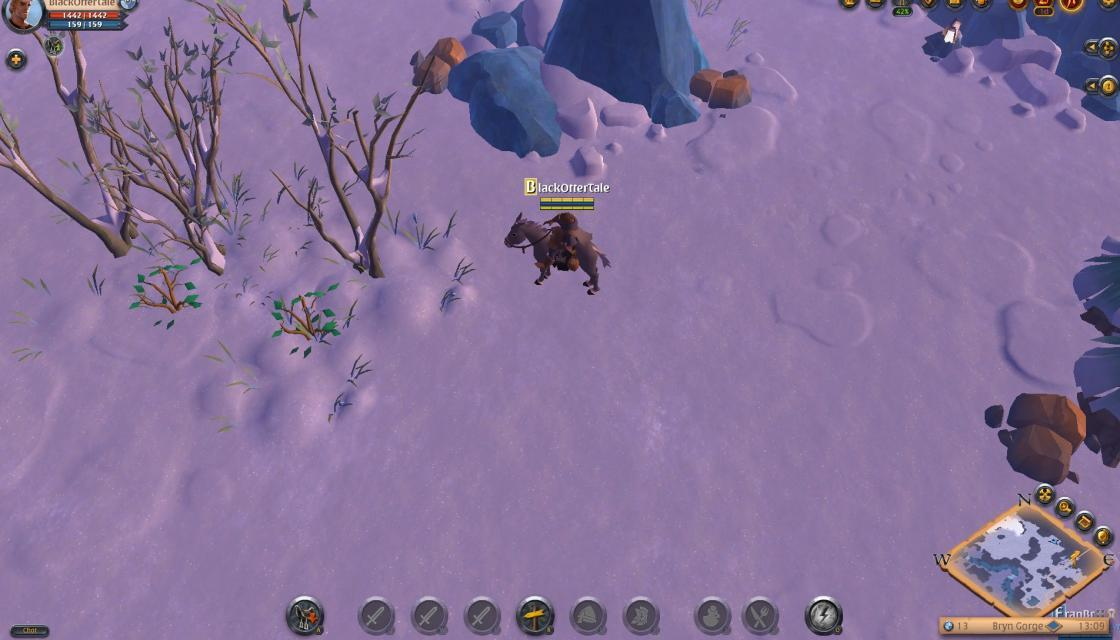copperore: (924, 15, 968, 58)
limestone: (992, 387, 1086, 488), (404, 34, 463, 99), (684, 58, 756, 110)
